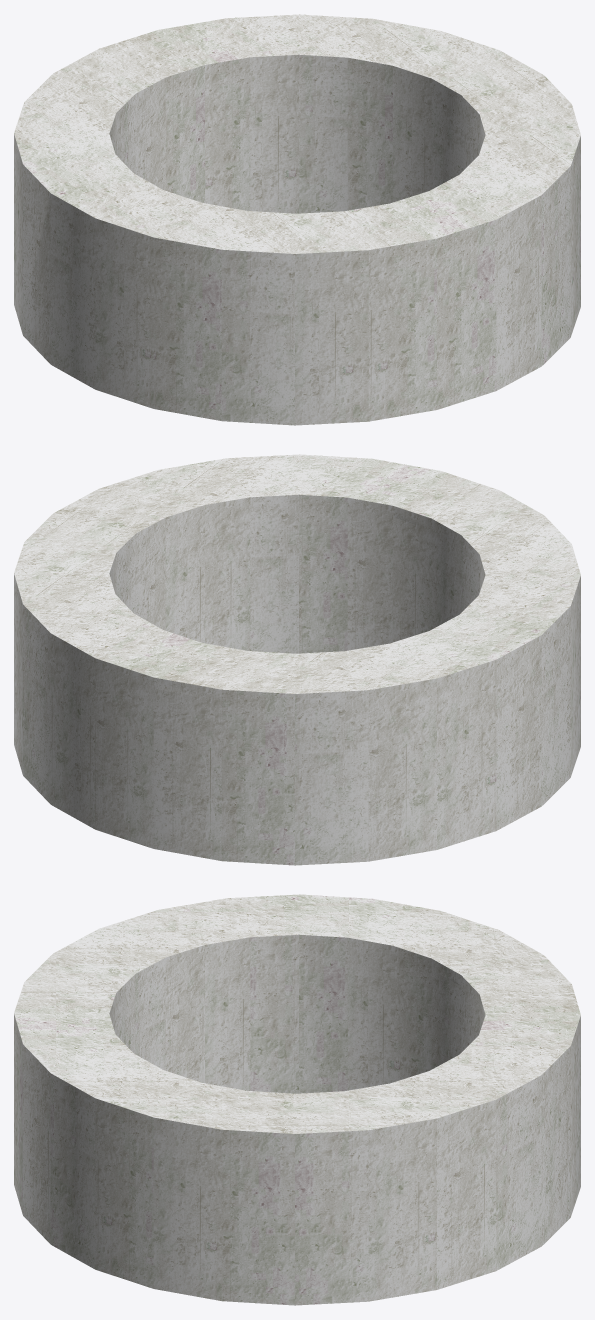
Rendered from Old Albergue 202102 original adjusted - surroundings 3 well.gltf.
3 renders of one model, top to bottom at view 1: azimuth 30°, elevation 25°; view 2: azimuth 150°, elevation 25°; view 3: azimuth 270°, elevation 25°, orthographic.
Parts seen in each view (by area): view 1: root; view 2: root; view 3: root.
Boxes of the visible parts, bbox=[...] form: root: bbox=[14, 14, 580, 425]; root: bbox=[14, 454, 580, 865]; root: bbox=[14, 894, 580, 1305].
Bounding box in the file's own units: 1.8 × 0.6 × 1.8.
2 materials, 2 textured.
